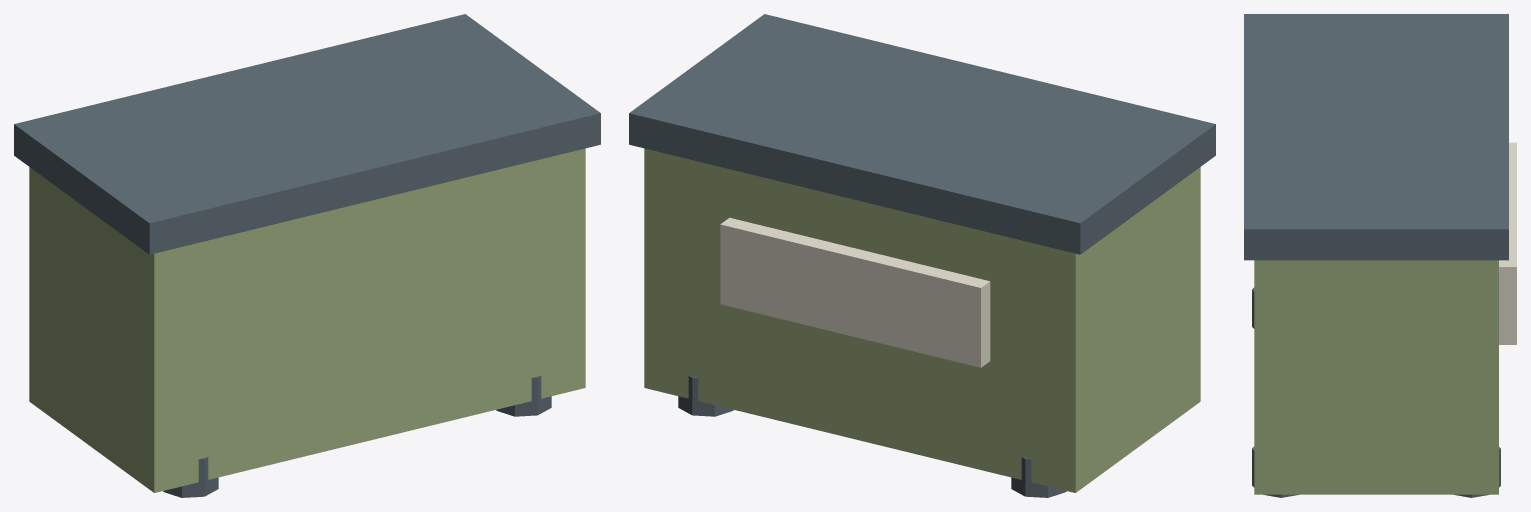
Rendered from la-city-dumpster-anime.glb.
3 renders of one model, left to right at view 1: azimuth 30°, elevation 25°; view 2: azimuth 150°, elevation 25°; view 3: azimuth 270°, elevation 25°, orthographic. The views are drawn at different scales.
Visible parts, largest first — view 1: la-city-dumpster-anime; view 2: la-city-dumpster-anime; view 3: la-city-dumpster-anime.
Part boxes in pixels (x1,y1,x2,y2): la-city-dumpster-anime: (14, 14, 600, 497); la-city-dumpster-anime: (629, 14, 1215, 497); la-city-dumpster-anime: (1244, 14, 1516, 497).
Size of the model in its own units: 2.25 by 1.38 by 1.2.
